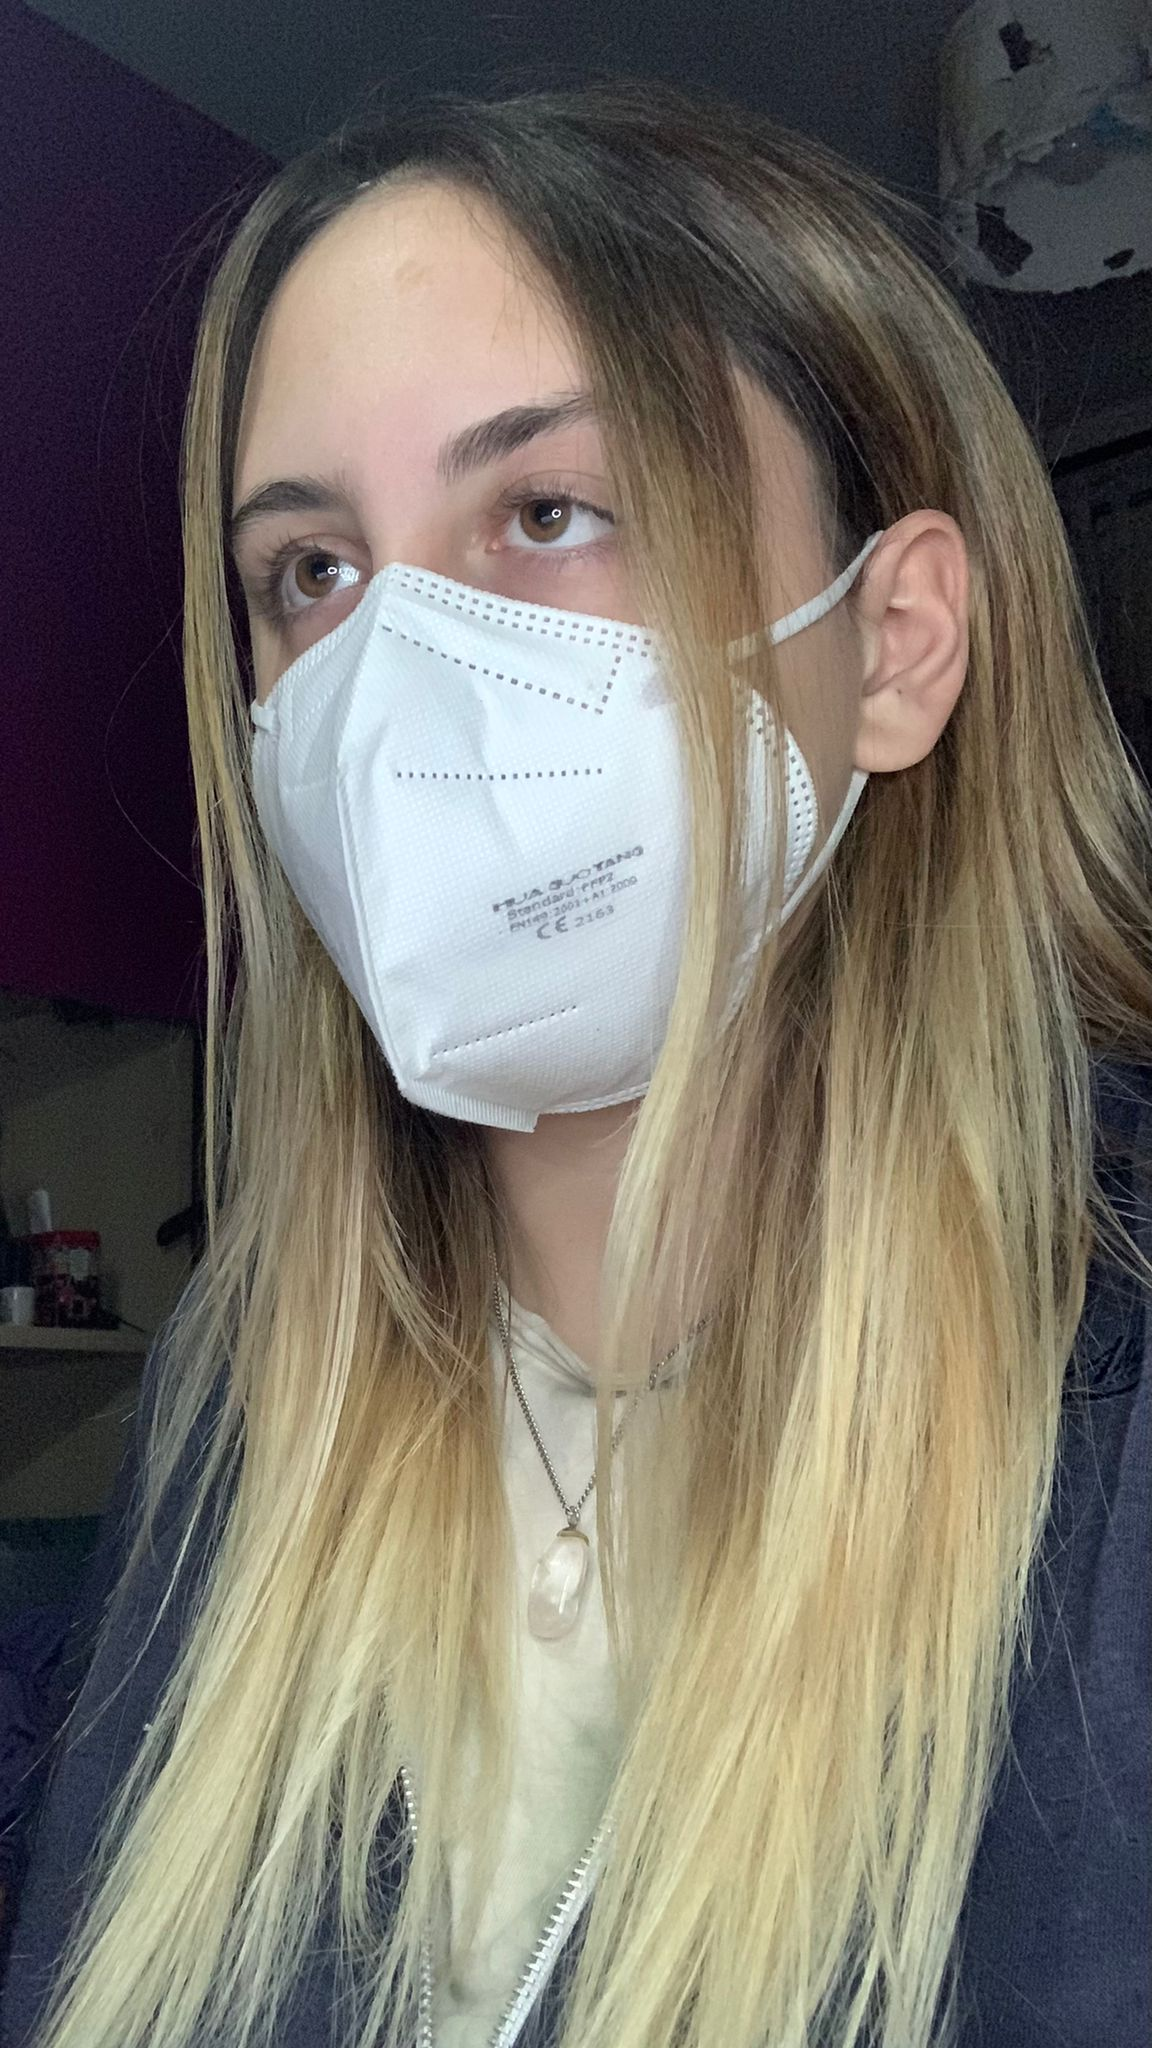with_mask: (145, 130, 1017, 1130)
